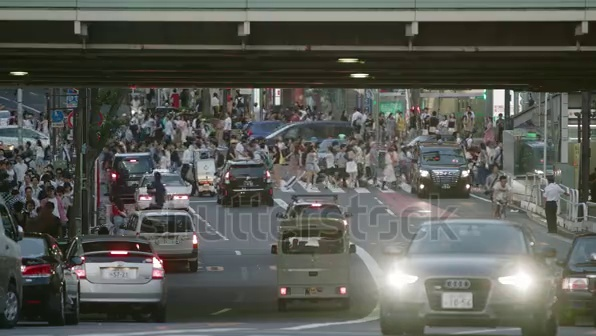licenseplate: (435, 292, 482, 314)
